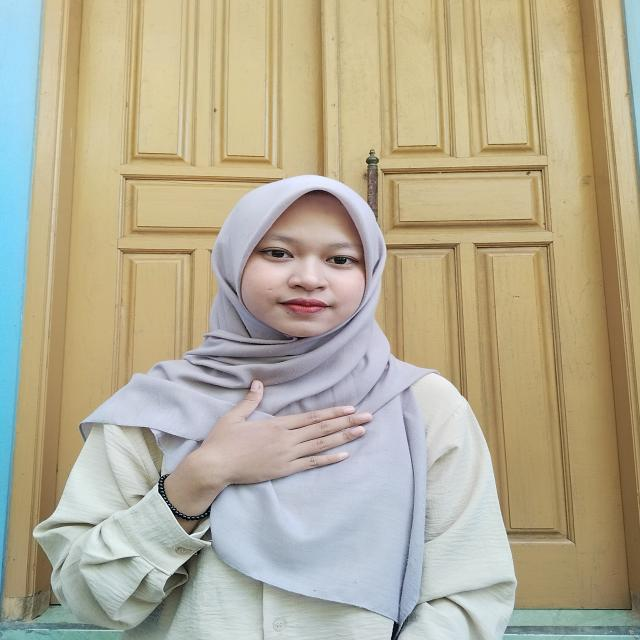tolong: (156, 382, 374, 518)
